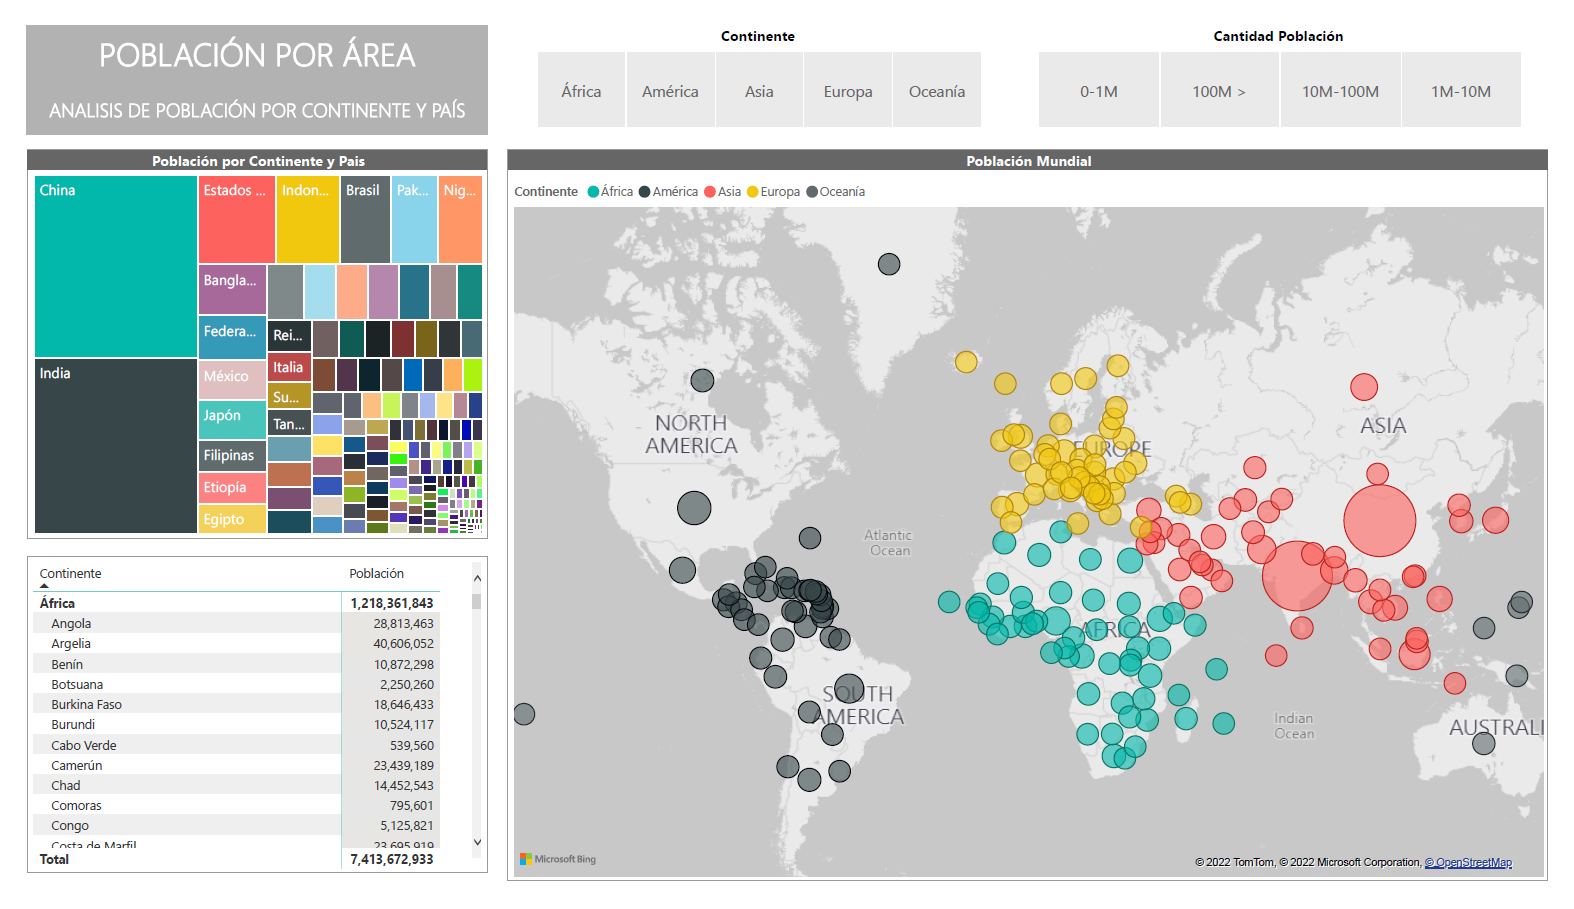

What the dashboard file says about the page in this screenshot:
{"tool":"powerbi","page":{"name":"Población Mundial","canvas":[1280,720],"ordinal":0},"visuals":[{"type":"pivotTable","fields":{"Rows":["Paises.Continente","Paises.Pais"],"Values":["Sum(Population.Población)"]},"box":[0,446,388.4,266.9],"z":0},{"type":"slicer","title":"Cantidad Población","fields":{"Values":["Population.Cantidad Población"]},"box":[826.4,0,454,92.2],"z":1000},{"type":"slicer","title":"Continente","fields":{"Values":["Paises.Continente"]},"box":[404.3,0,422.1,92.2],"z":2000},{"type":"map","title":"Población Mundial","fields":{"Size":["Sum(Population.Población)"],"Category":["Paises.Pais"],"Series":["Paises.Continente"]},"box":[404.3,103.7,876.1,616.3],"z":3000},{"type":"treemap","title":"Población por Continente y Pais","fields":{"Group":["Paises.Pais"],"Values":["Sum(Population.Población)"]},"box":[0,103.7,388.4,328.1],"z":4000},{"type":"textbox","box":[0,0,388.4,92.2],"z":5000}]}

Visuals, with their boxes in screenshot pixels (x1, y1, x2, y2), scaled from the page's 1280x720 canvas onto the 1574x909 screenshot:
pivotTable - Paises.Continente x Paises.Pais: detection(0, 563, 478, 900)
"Cantidad Población" slicer: detection(1016, 0, 1573, 116)
"Continente" slicer: detection(497, 0, 1016, 116)
"Población Mundial" map: detection(497, 131, 1573, 908)
"Población por Continente y Pais" treemap: detection(0, 131, 478, 545)
textbox: detection(0, 0, 478, 116)
